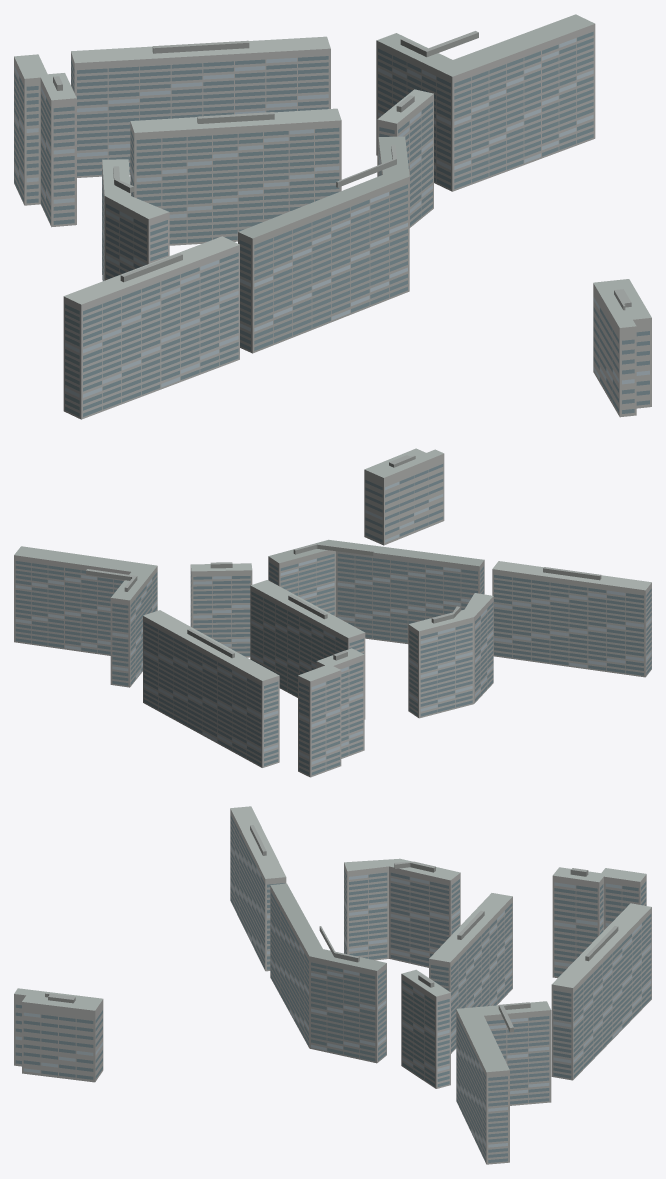
The model's file is apt-a15603205.glb.
3 renders of one model, top to bottom at view 1: azimuth 30°, elevation 25°; view 2: azimuth 150°, elevation 25°; view 3: azimuth 270°, elevation 25°, orthographic. The views are drawn at different scales.
Visible parts, largest first — view 1: apt-a15603205; view 2: apt-a15603205; view 3: apt-a15603205.
Part boxes in pixels (x1,y1,x2,y2): apt-a15603205: (14, 14, 651, 419); apt-a15603205: (14, 448, 651, 777); apt-a15603205: (14, 806, 651, 1164).
Size of the model in its own units: 289 by 54 by 293.
